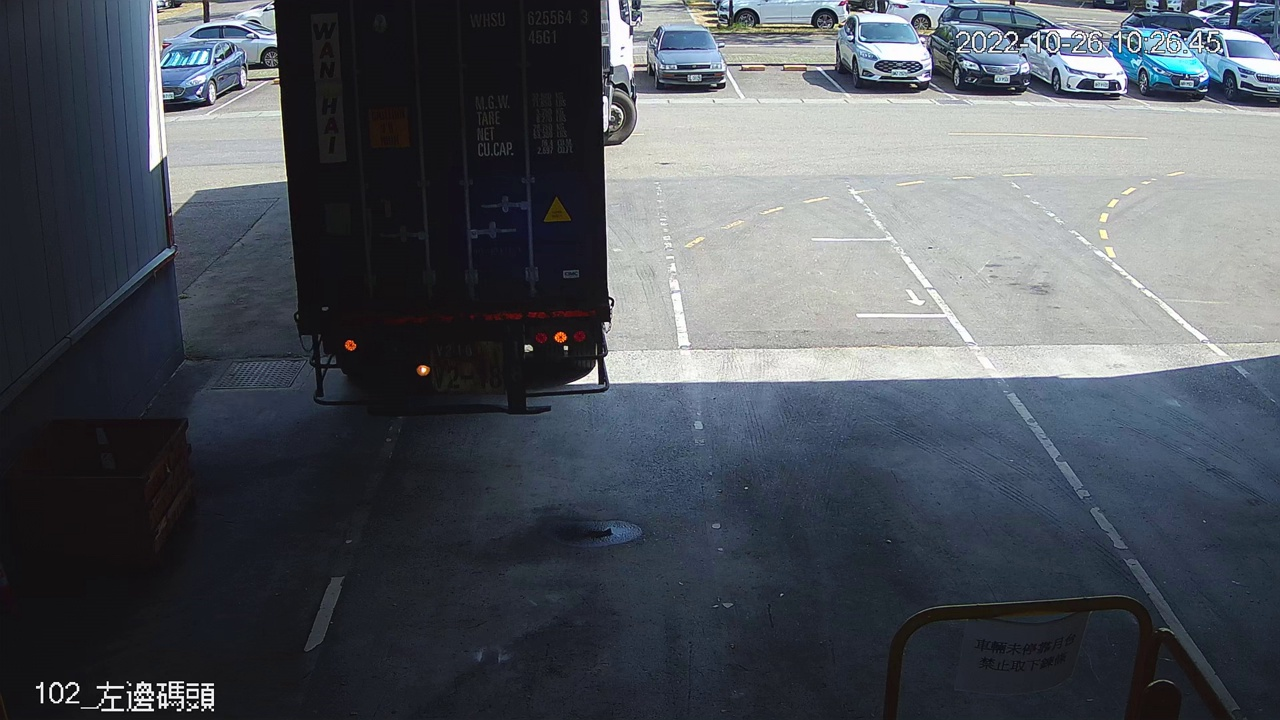container: (466, 4, 594, 51)
